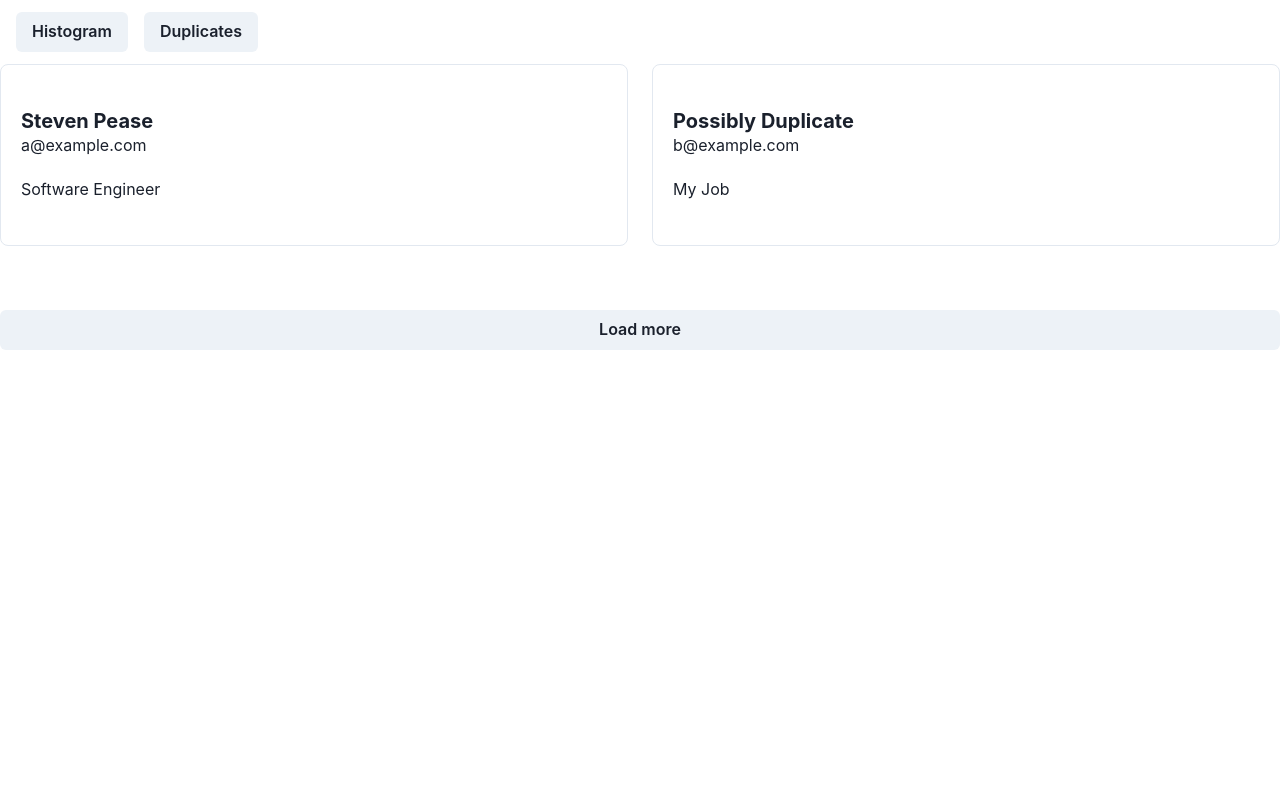
Test: App › shows character count
Click the button "Histogram". click: (72, 32)
box: [16, 12, 128, 52]
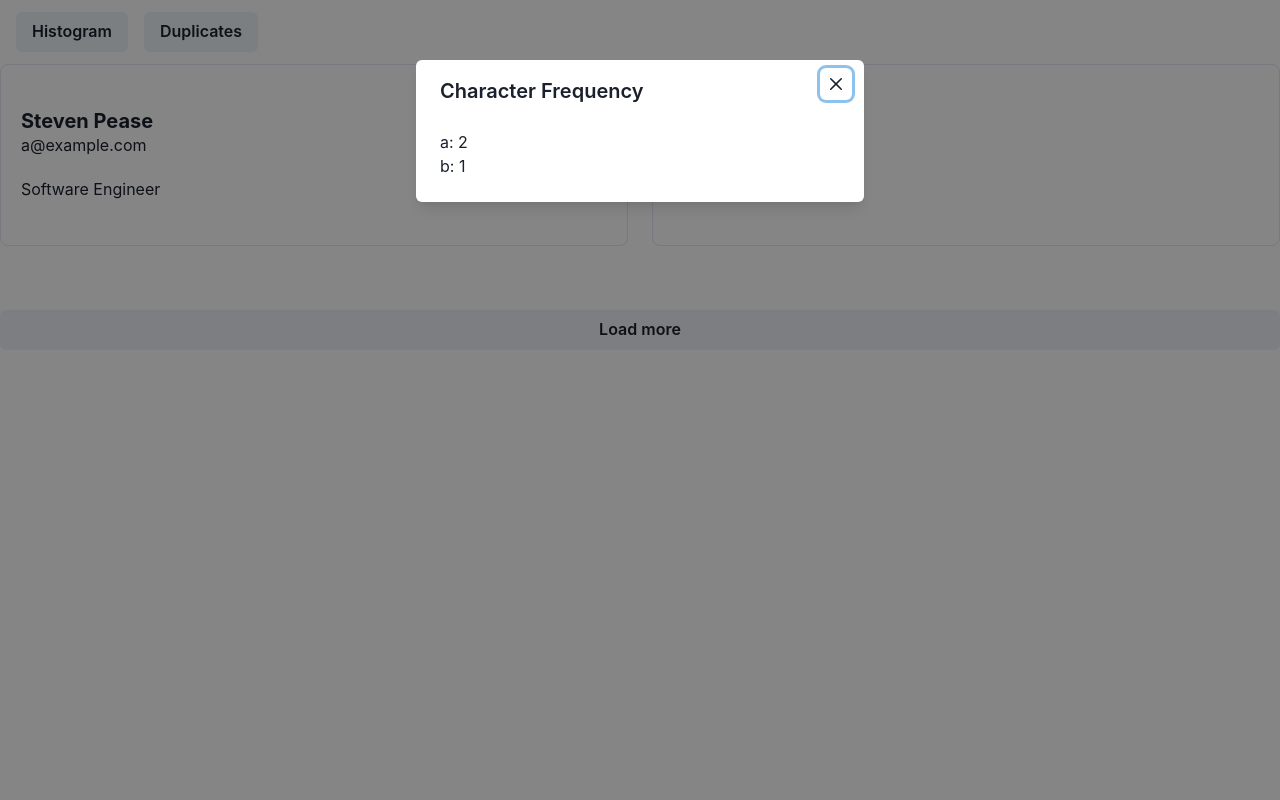
Now the text "a: 2" is shown, box [440, 132, 468, 152]
Now the text "b: 1" is shown, box [440, 156, 465, 176]
